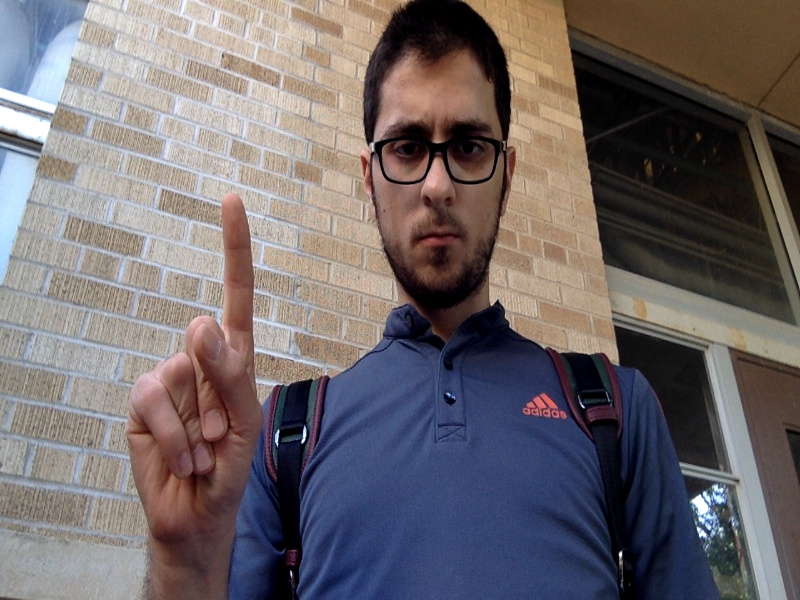1-hand: (131, 192, 262, 549)
